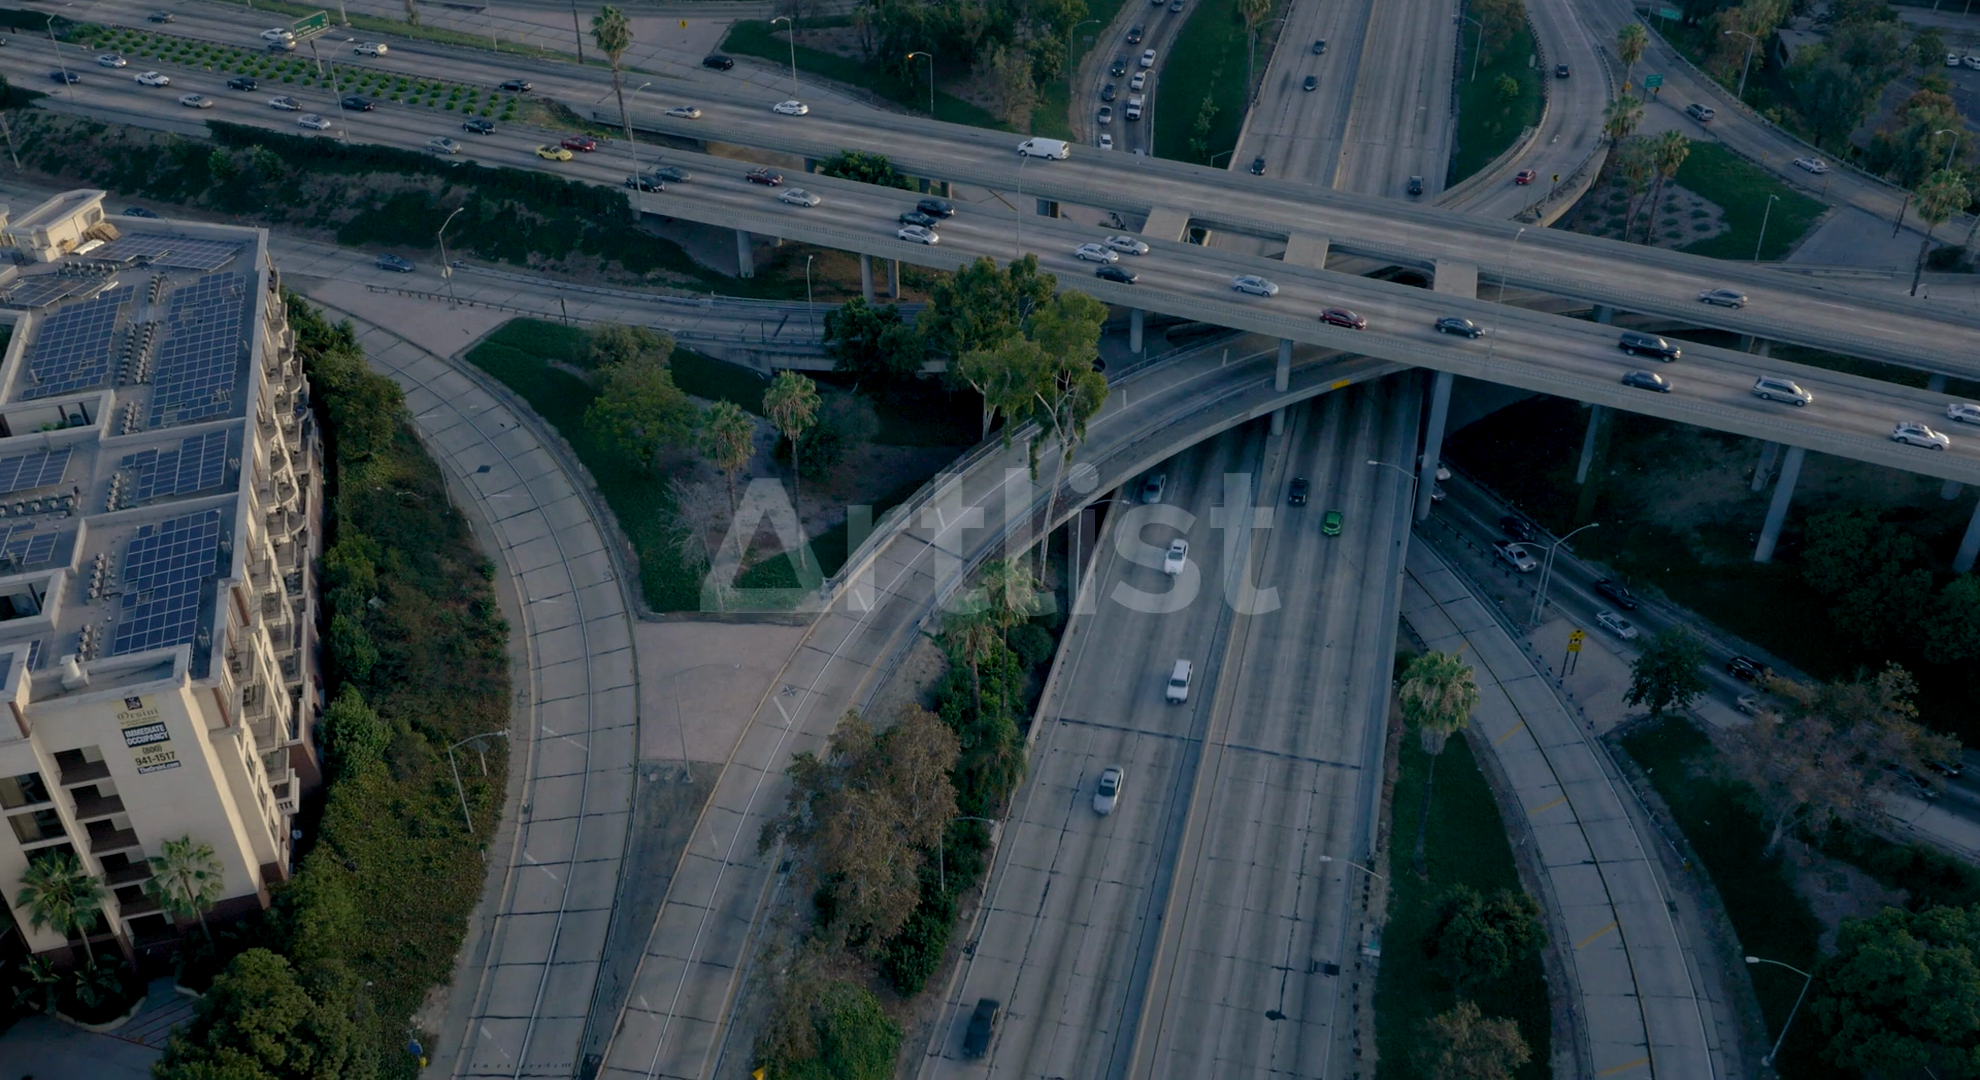building: (20, 689, 350, 952), (218, 344, 314, 672)
car: (1566, 331, 1679, 354), (1594, 584, 1670, 617), (1709, 374, 1812, 396), (953, 999, 996, 1052), (1497, 511, 1558, 544), (1850, 420, 1948, 440), (1737, 697, 1807, 724), (1082, 765, 1122, 811), (1725, 661, 1795, 686), (1584, 368, 1674, 387), (1278, 303, 1367, 322), (1190, 270, 1279, 289), (1598, 616, 1657, 644), (1499, 545, 1554, 575), (1158, 656, 1193, 702), (1399, 313, 1485, 331), (1156, 536, 1189, 580), (1666, 283, 1746, 301), (1074, 231, 1145, 249), (1016, 134, 1068, 157), (1051, 241, 1114, 257), (1314, 504, 1344, 537), (1919, 399, 1980, 415), (1137, 471, 1166, 503), (371, 250, 415, 271), (1069, 263, 1133, 278), (1283, 473, 1311, 507), (1787, 150, 1828, 172), (896, 223, 939, 242), (422, 133, 460, 153), (532, 140, 573, 158), (176, 88, 211, 108), (1679, 98, 1715, 118), (624, 173, 664, 190), (745, 166, 783, 184), (781, 188, 819, 205), (916, 197, 956, 213), (1503, 165, 1537, 182), (460, 117, 493, 134), (558, 134, 594, 150), (900, 210, 936, 226), (267, 93, 306, 108), (773, 98, 807, 114), (133, 69, 168, 85), (47, 68, 80, 84), (656, 165, 690, 180), (352, 40, 387, 55), (1935, 48, 1961, 67), (297, 113, 330, 128), (92, 51, 125, 65), (1952, 52, 1980, 69), (342, 94, 374, 109), (1112, 96, 1144, 110), (702, 53, 733, 68), (500, 76, 529, 90), (1237, 154, 1269, 168), (1392, 173, 1424, 186), (1082, 104, 1114, 117), (1097, 55, 1129, 68), (1112, 24, 1144, 37), (226, 76, 255, 89), (1289, 73, 1320, 85), (1297, 36, 1328, 48), (1086, 81, 1118, 93), (1116, 70, 1148, 82), (1125, 49, 1157, 61), (1429, 489, 1455, 504), (1435, 468, 1461, 481), (148, 9, 173, 23), (263, 27, 294, 37), (269, 37, 295, 49), (1088, 132, 1114, 144), (669, 108, 698, 118), (1541, 61, 1570, 72), (1156, 0, 1186, 9)
directionsign: (290, 17, 339, 43), (1660, 8, 1681, 23), (1644, 73, 1664, 88)
solarpanel: (126, 520, 202, 646), (166, 279, 237, 410), (113, 443, 234, 497), (100, 225, 229, 269), (49, 305, 110, 387), (0, 262, 77, 310), (0, 450, 70, 487)
